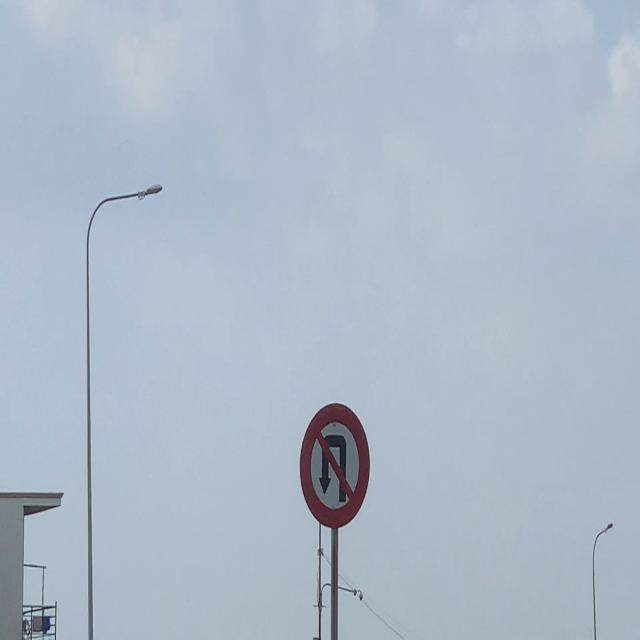Cam quay dau xe: (296, 392, 376, 532)
